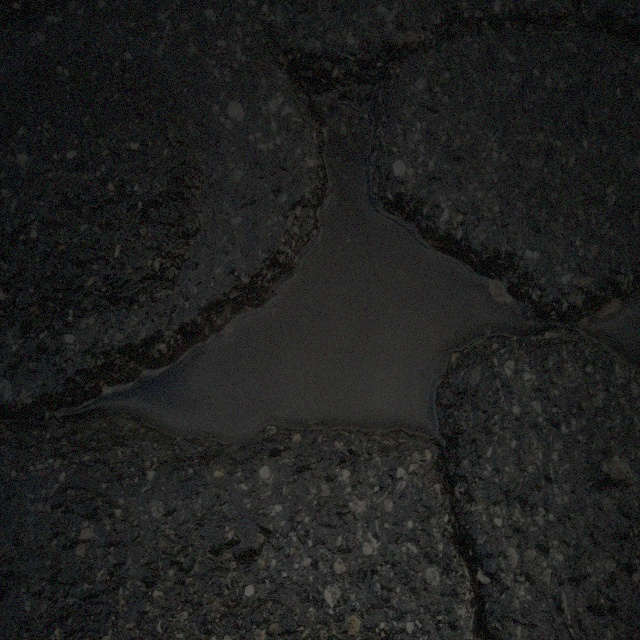pothole: (105, 123, 546, 480)
